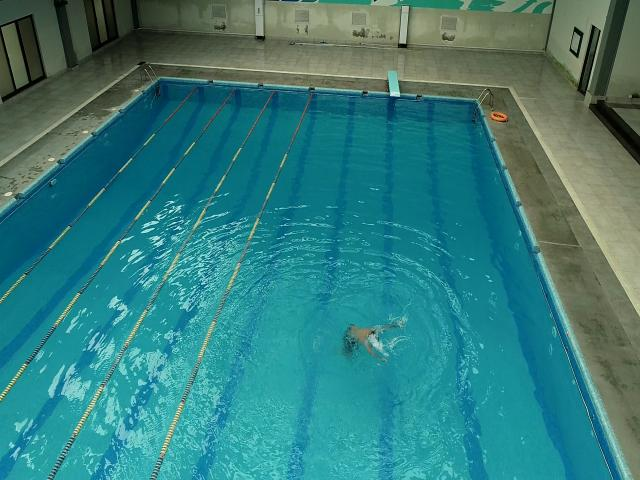drowning: (336, 318, 402, 374)
